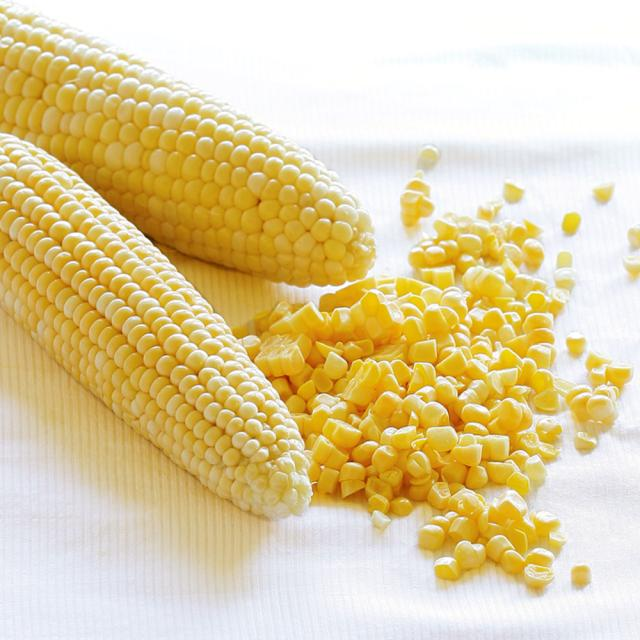corn: (0, 0, 388, 532)
